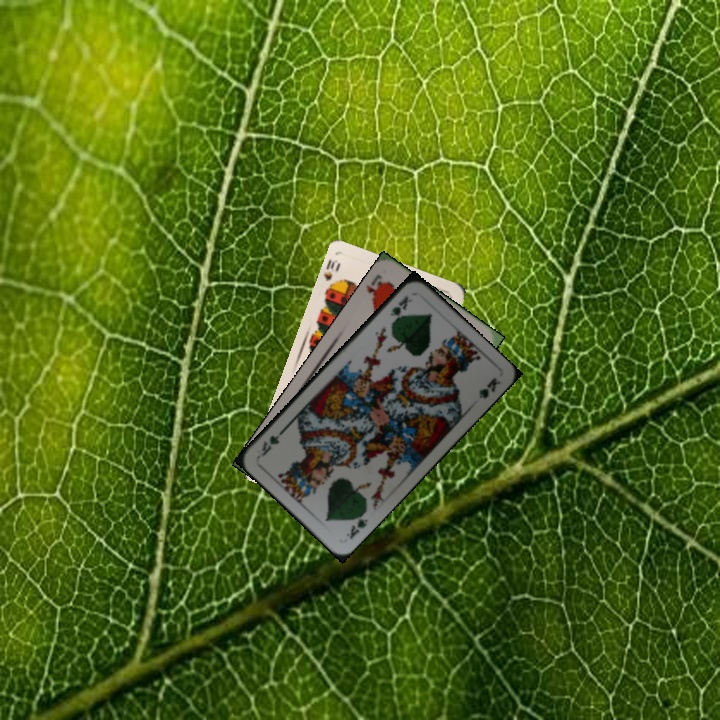GK: (342, 507, 371, 542), (386, 292, 414, 326)
HO: (362, 270, 390, 304)
S10: (320, 255, 343, 293)
